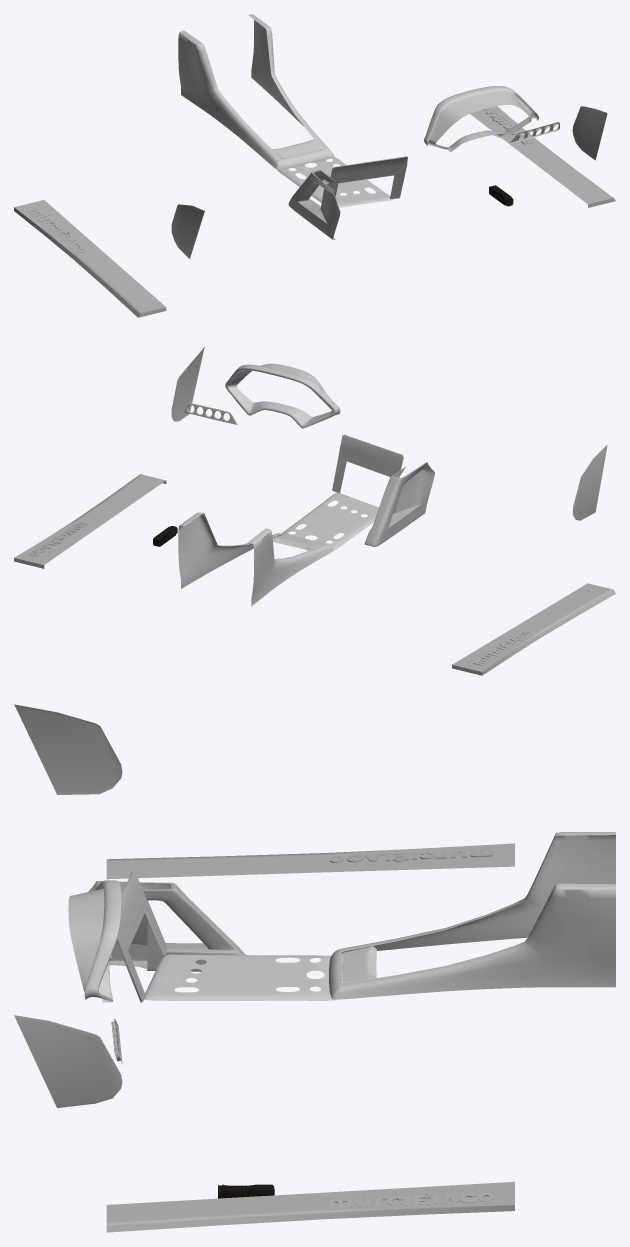
Rendered from Murcielago-CarbonFiber.fbx.
3 views of the same model, one above another, from view 1: azimuth 30°, elevation 25°; view 2: azimuth 150°, elevation 25°; view 3: azimuth 270°, elevation 25° (orthographic). The views are drawn at different scales.
Visible parts, largest first — view 1: polymsh3; view 2: polymsh3; view 3: polymsh3.
Part boxes in pixels (x1,y1,x2,y2): polymsh3: (14, 14, 615, 317); polymsh3: (14, 347, 615, 675); polymsh3: (14, 704, 615, 1232).
Bounding box in the file's own units: 3.67 × 1.14 × 2.53.
